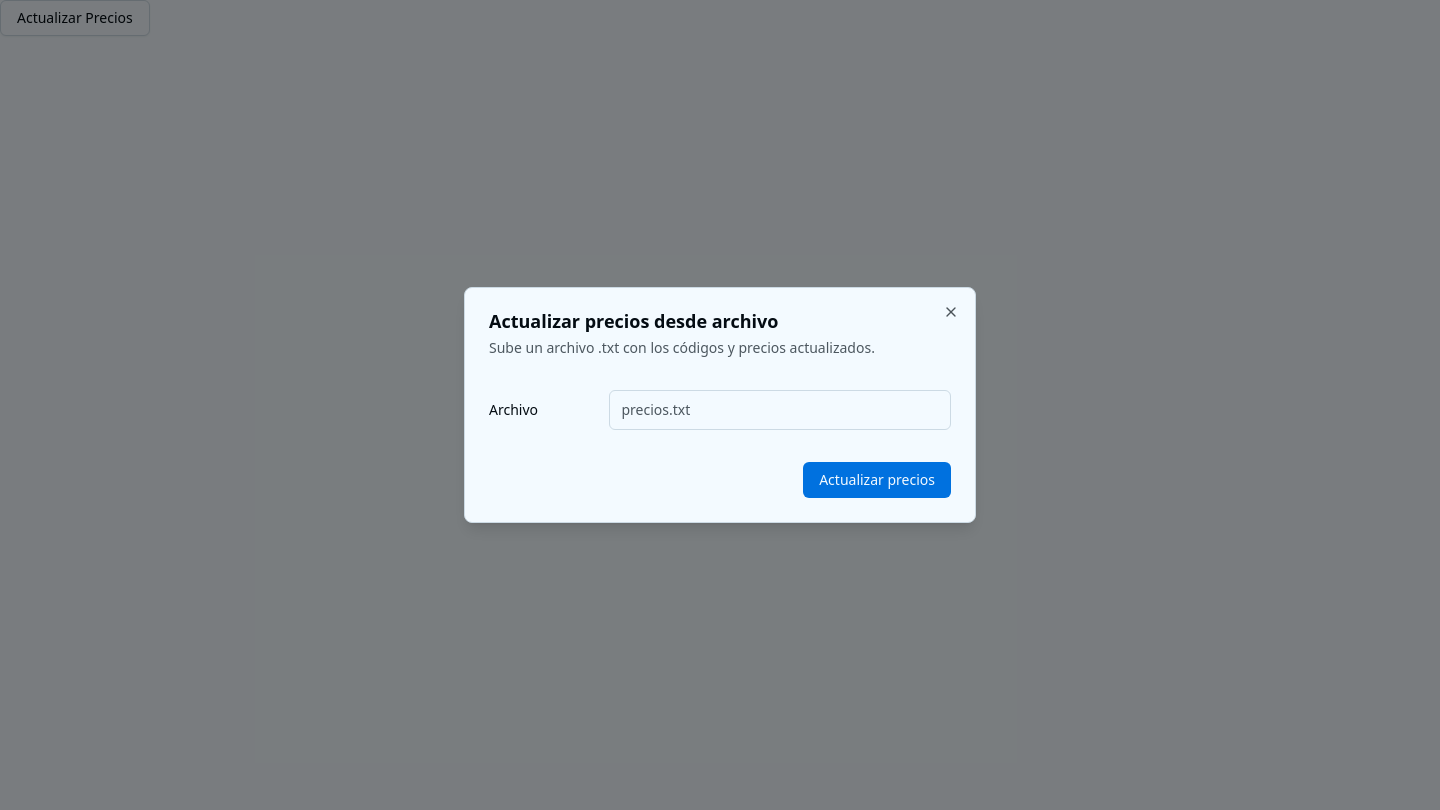
Test: UpdatePricesDialog › submits the file and shows progress
Earlier steps of the test are not shown.
Click the button "Actualizar precios" at (877, 480), box [803, 462, 951, 498]
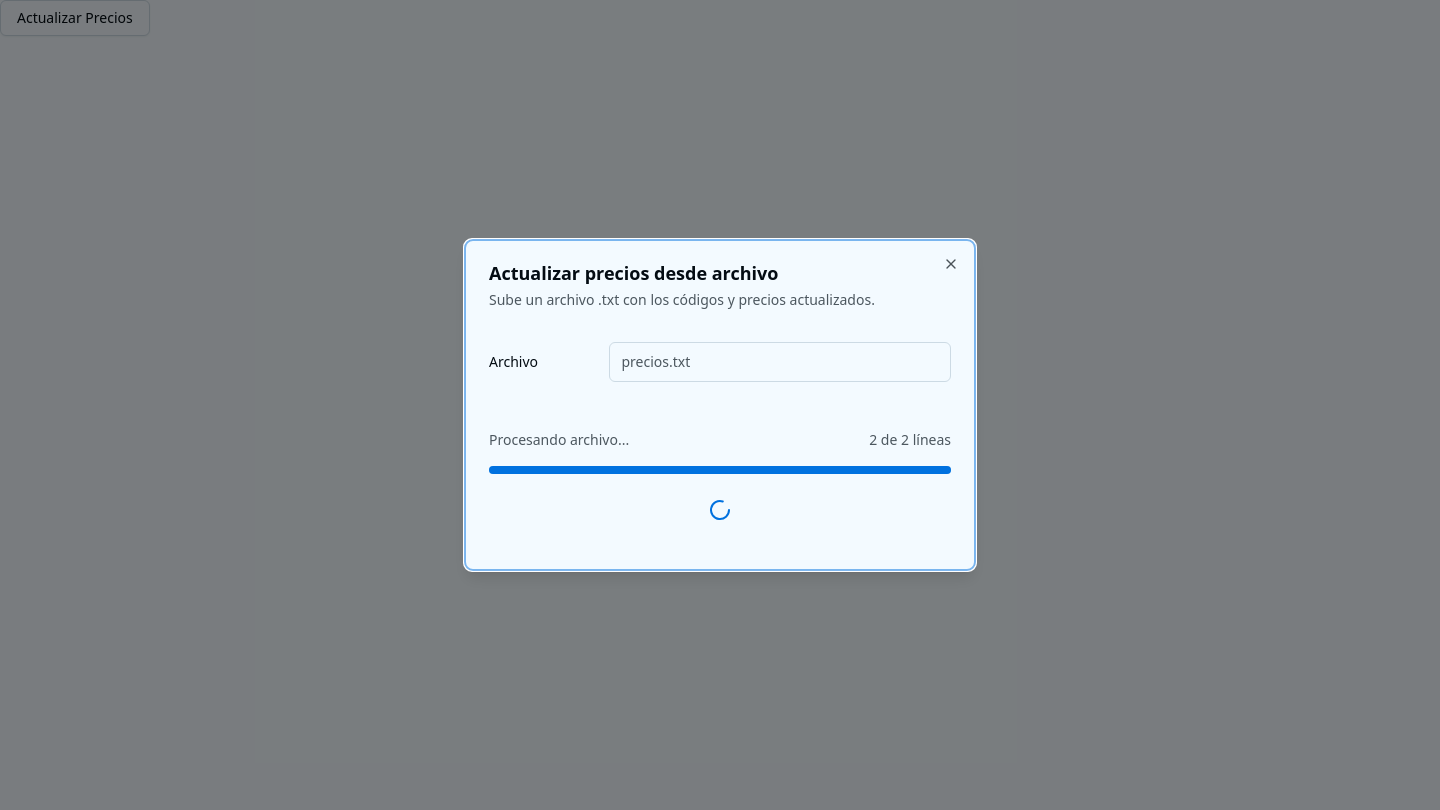
Result: the text "Procesando archivo..." is shown at [489, 430, 629, 450]
